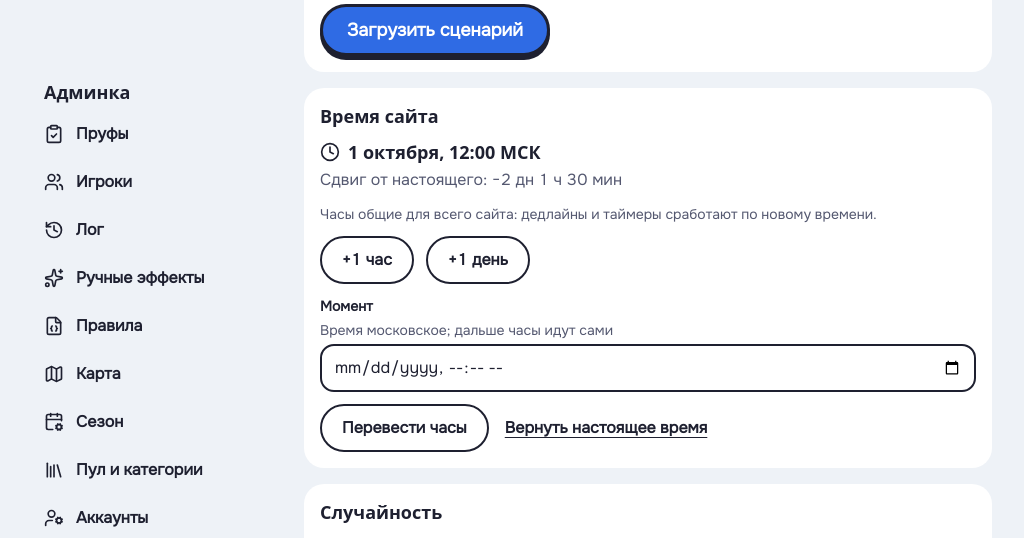
Test: The test tools › bring a moved clock back to the real time
(page scrolled)
Click the button with test id "clock-reset".
click(606, 428)  # box [501,406,711,450]
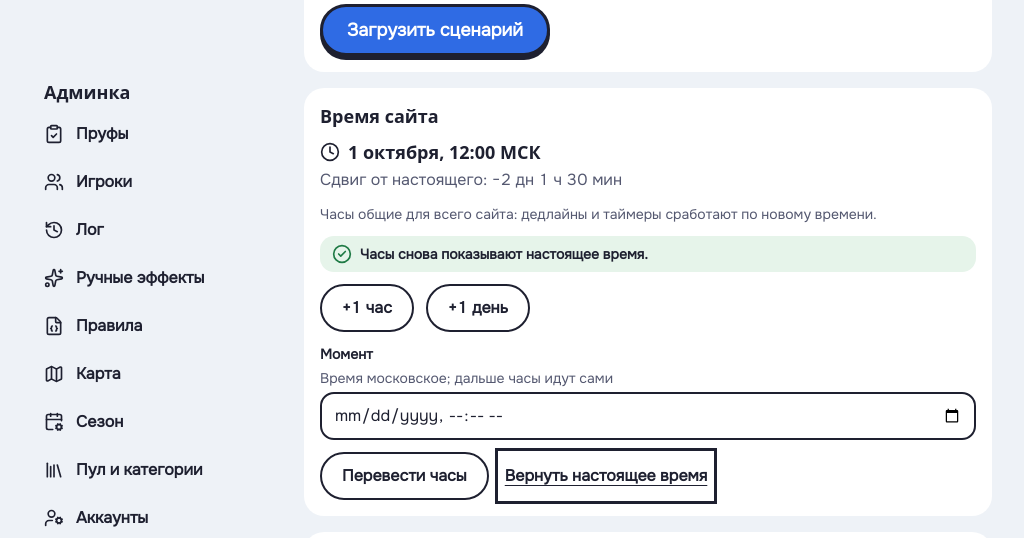
Expected: the text "Часы снова показывают настоящее время." is shown, [360,244,648,264]
